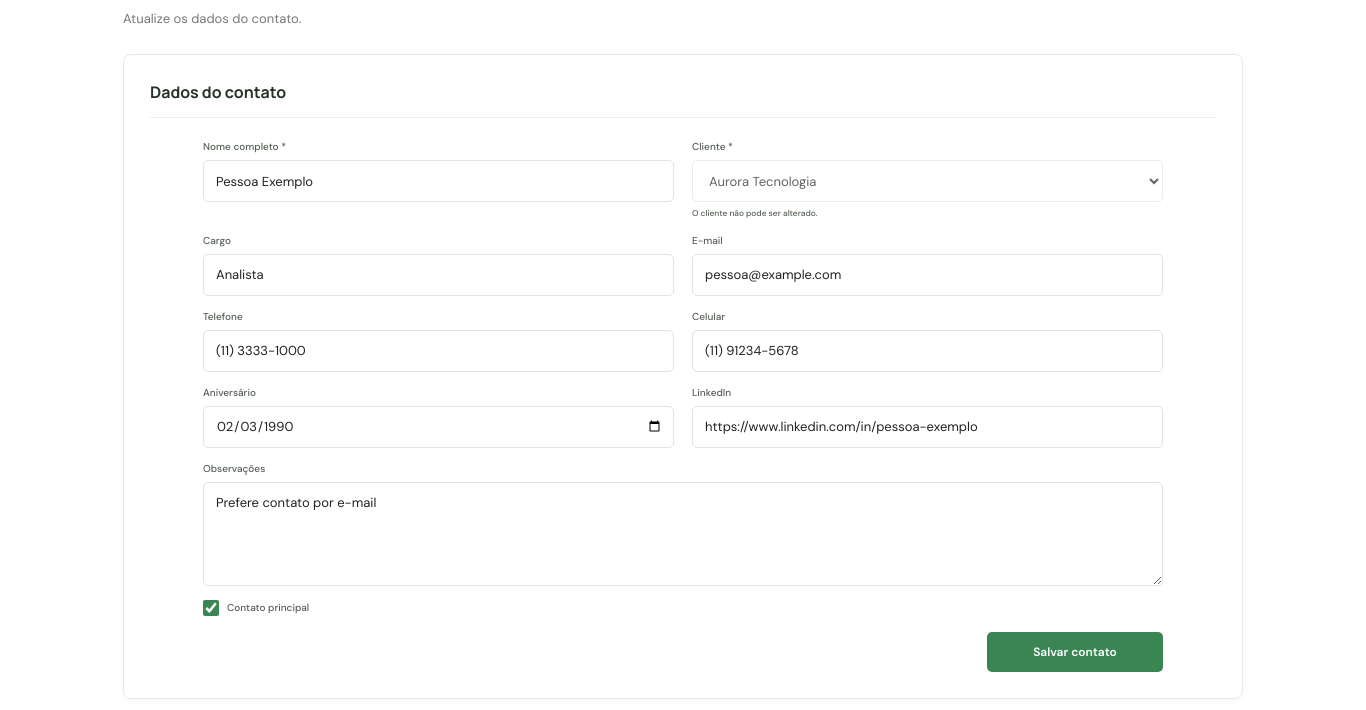
Test: Editar contato › usa uma mensagem padrão quando a API não informa o erro
(page scrolled)
Step 1. Click the button "Salvar contato" → (1075, 652), box [987,632,1163,672]
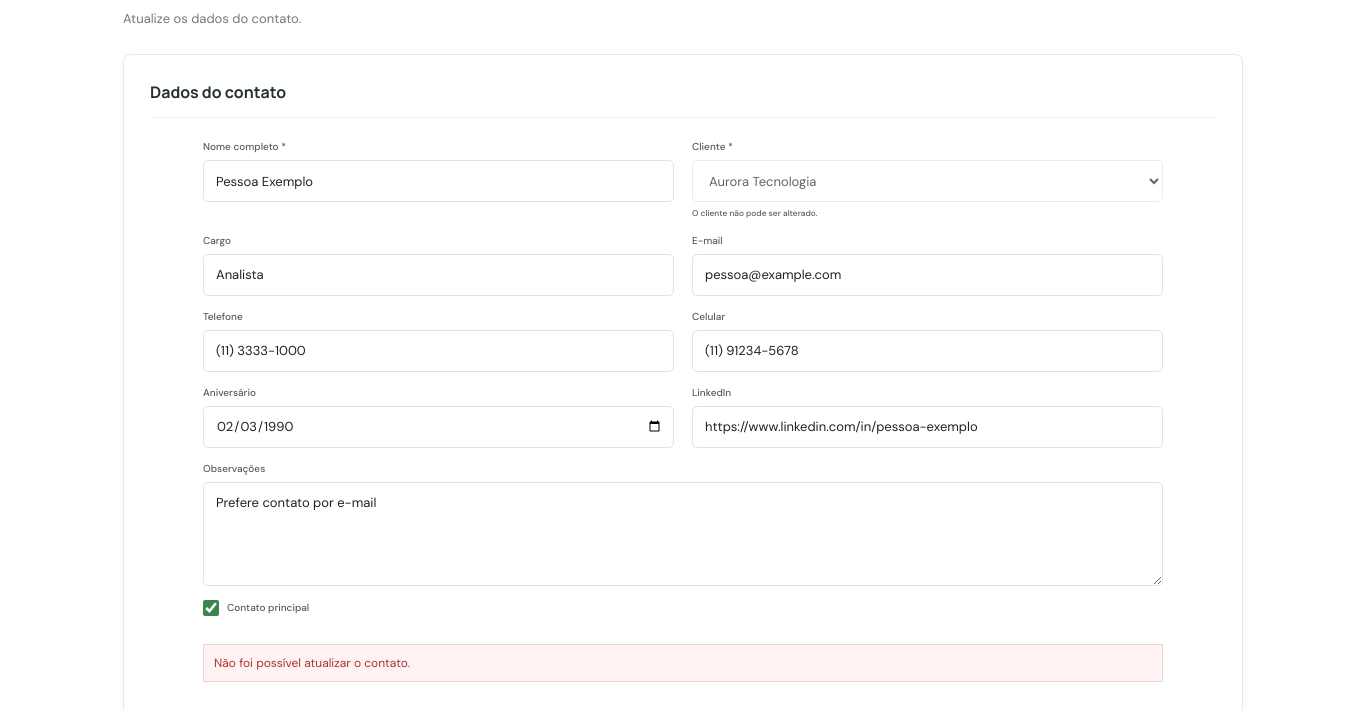
Expected: the message reads "Não foi possível atualizar o contato.", [214,655,410,671]
